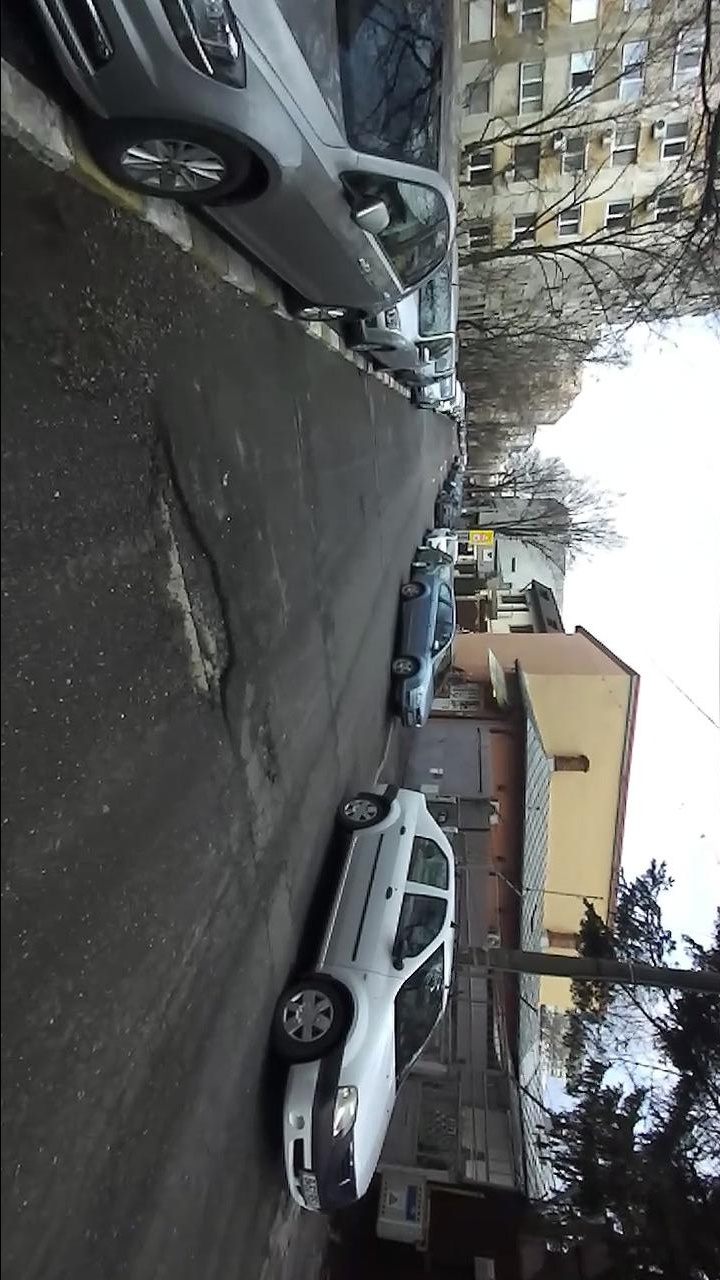pothole: (146, 410, 241, 753), (254, 707, 286, 792)
